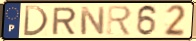2: (164, 4, 188, 38)
6: (136, 4, 161, 38)
D: (22, 4, 50, 37)
N: (79, 5, 106, 36)
R: (106, 4, 134, 37), (51, 6, 78, 36)
